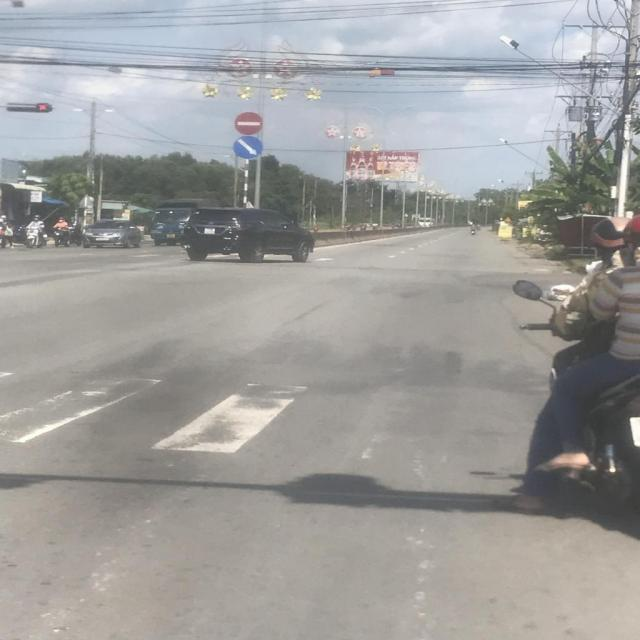cam_xe_di_nguoc_chieu: (233, 111, 264, 135)
huong_phai_di_vuot_chuong_ngai_vat_phai: (232, 136, 264, 158)
